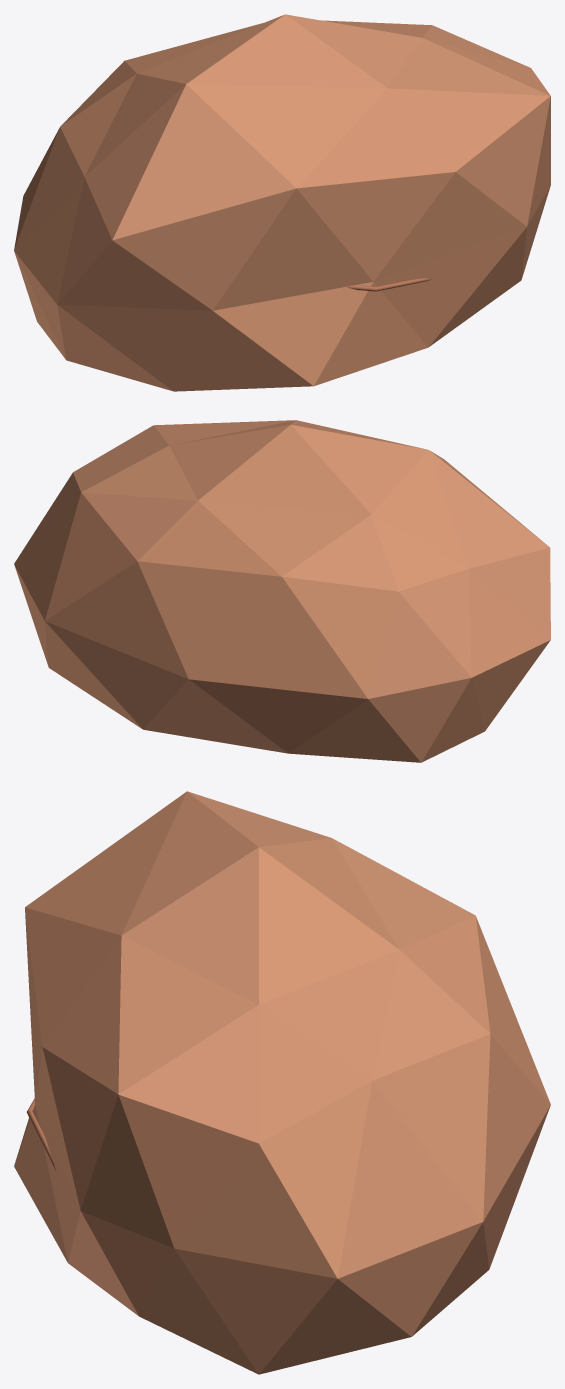
Rendered from Rock_06.glb.
The picture shows the model from 3 angles, top to bottom: view 1: azimuth 30°, elevation 25°; view 2: azimuth 150°, elevation 25°; view 3: azimuth 270°, elevation 25°; orthographic projection. The views are drawn at different scales.
Parts seen in each view (by area): view 1: Eroded Mars boulder.005; view 2: Eroded Mars boulder.005; view 3: Eroded Mars boulder.005.
Part boxes in pixels (x1,y1,x2,y2): Eroded Mars boulder.005: (14,14,550,391); Eroded Mars boulder.005: (14,420,550,762); Eroded Mars boulder.005: (14,791,550,1374).
Size of the model in its own units: 3.51 by 1.83 by 2.37.
